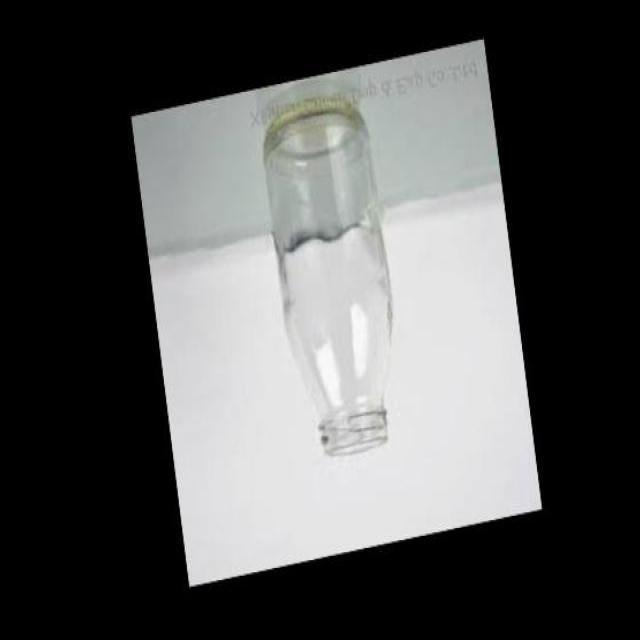Glass: (252, 94, 404, 468)
